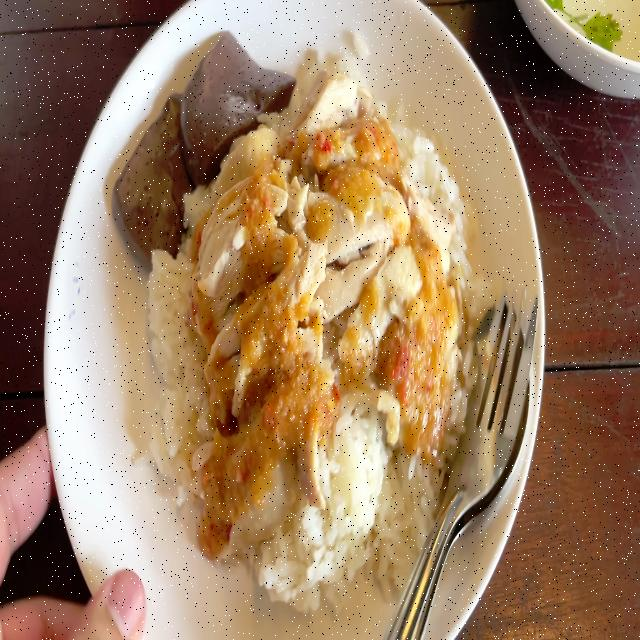boiled_chicken: (186, 142, 440, 514)
boiled_chicken_blood_jelly: (112, 83, 194, 257), (176, 21, 276, 160)
chicken_rice: (107, 26, 481, 590)
